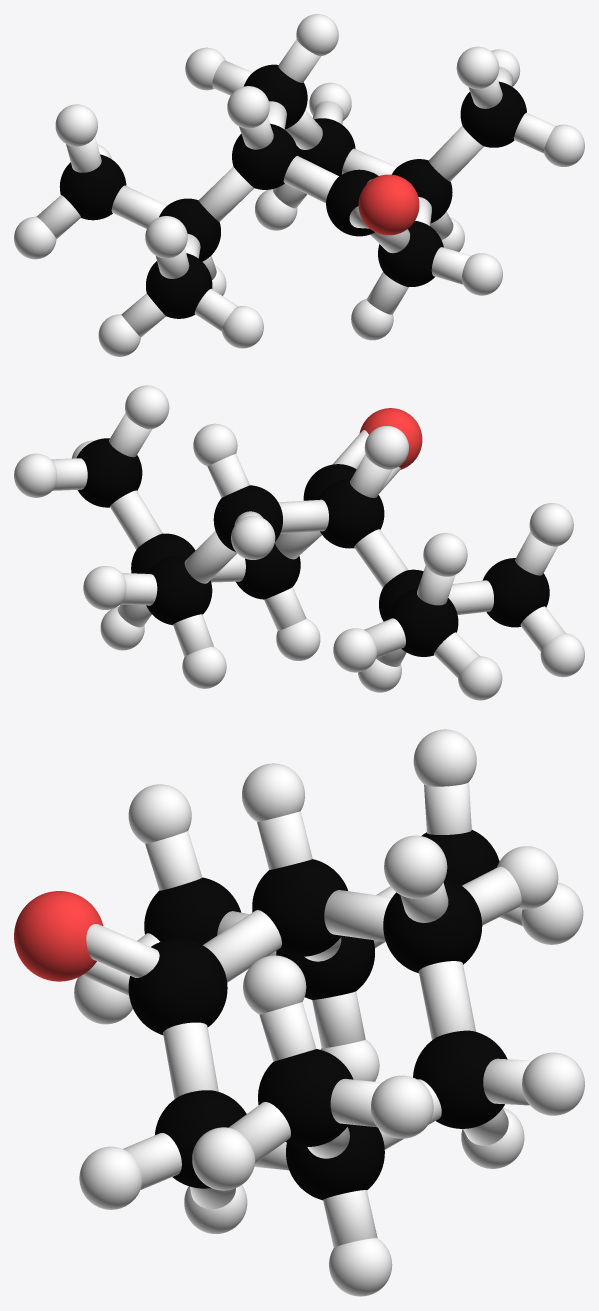
3 views of the same model, one above another, from view 1: azimuth 30°, elevation 25°; view 2: azimuth 150°, elevation 25°; view 3: azimuth 270°, elevation 25° (orthographic). The views are drawn at different scales.
Visible parts, largest first — view 1: molecule; view 2: molecule; view 3: molecule.
Boxes of the visible parts, <box> form: molecule: <box>14,14,584,356</box>; molecule: <box>14,385,584,700</box>; molecule: <box>14,729,584,1296</box>.
Size of the model in its own units: 7.93 by 4.21 by 5.42.
